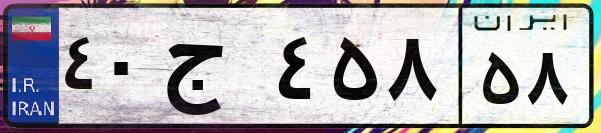0: (110, 28, 158, 98)
4: (270, 28, 330, 110), (57, 26, 110, 100)
5: (330, 28, 385, 110), (475, 38, 525, 113)
8: (385, 28, 445, 110), (525, 38, 570, 115)
ج: (158, 20, 270, 120)
